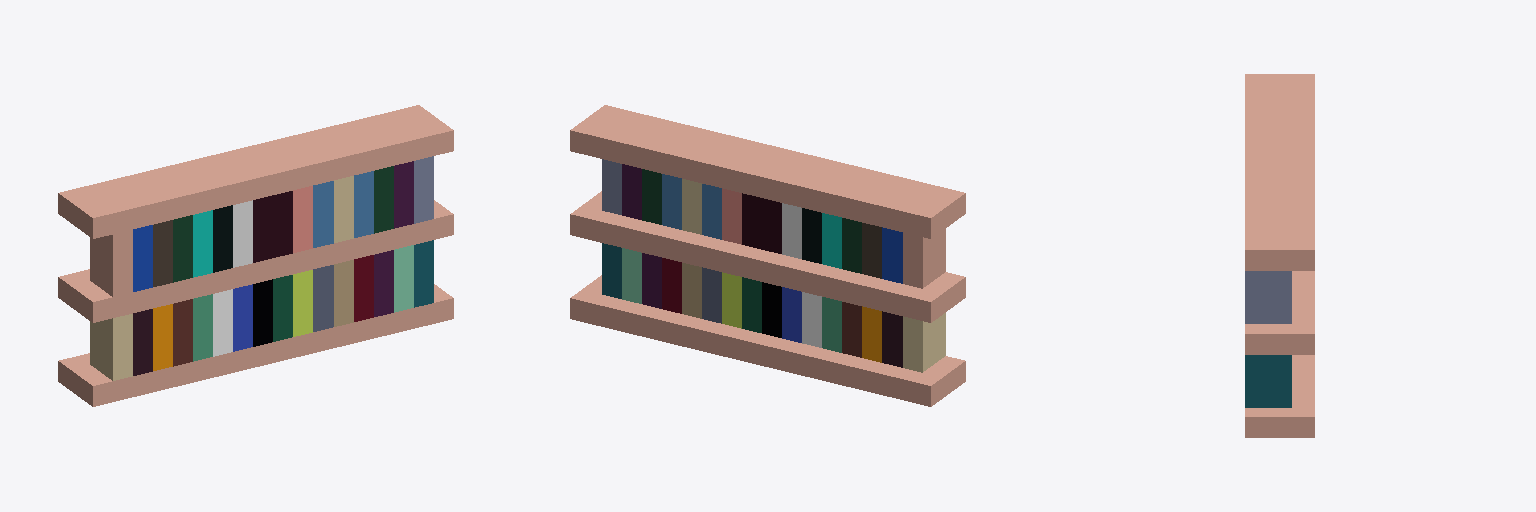
The picture shows the model from 3 angles: view 1: azimuth 30°, elevation 25°; view 2: azimuth 150°, elevation 25°; view 3: azimuth 270°, elevation 25°; orthographic projection.
Parts seen in each view (by area): view 1: bookshelf; view 2: bookshelf; view 3: bookshelf.
Part boxes in pixels (bbox=[...]): bookshelf: bbox=[58, 105, 453, 406]; bookshelf: bbox=[570, 105, 965, 406]; bookshelf: bbox=[1245, 74, 1314, 437].
Bounding box in the file's own units: 1.8 × 0.9 × 0.3.
1 materials, 1 textured.